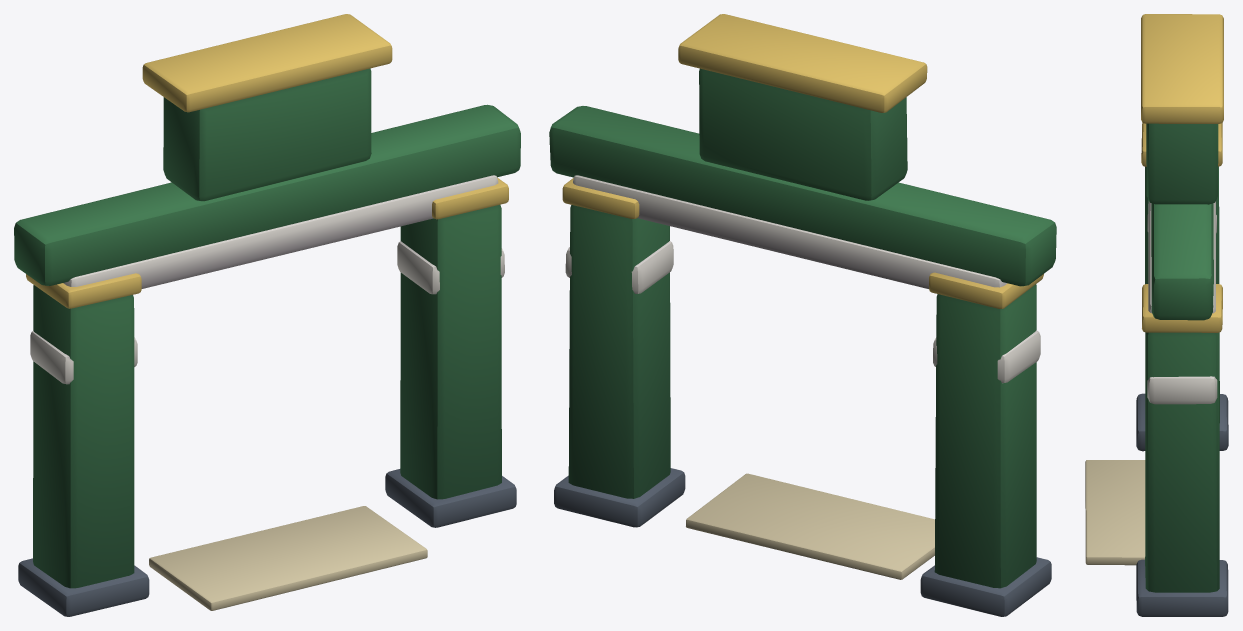
The picture shows the model from 3 angles, left to right: view 1: azimuth 30°, elevation 25°; view 2: azimuth 150°, elevation 25°; view 3: azimuth 270°, elevation 25°; orthographic projection. The views are drawn at different scales.
Parts seen in each view (by area): view 1: gate_c8e6a4ca; view 2: gate_c8e6a4ca; view 3: gate_c8e6a4ca.
Boxes of the visible parts, box(x1,y1,x2,y2) form: gate_c8e6a4ca: box(14, 14, 520, 616); gate_c8e6a4ca: box(549, 14, 1056, 616); gate_c8e6a4ca: box(1085, 14, 1228, 616).
Size of the model in its own units: 5.31 by 5.22 by 1.48.
